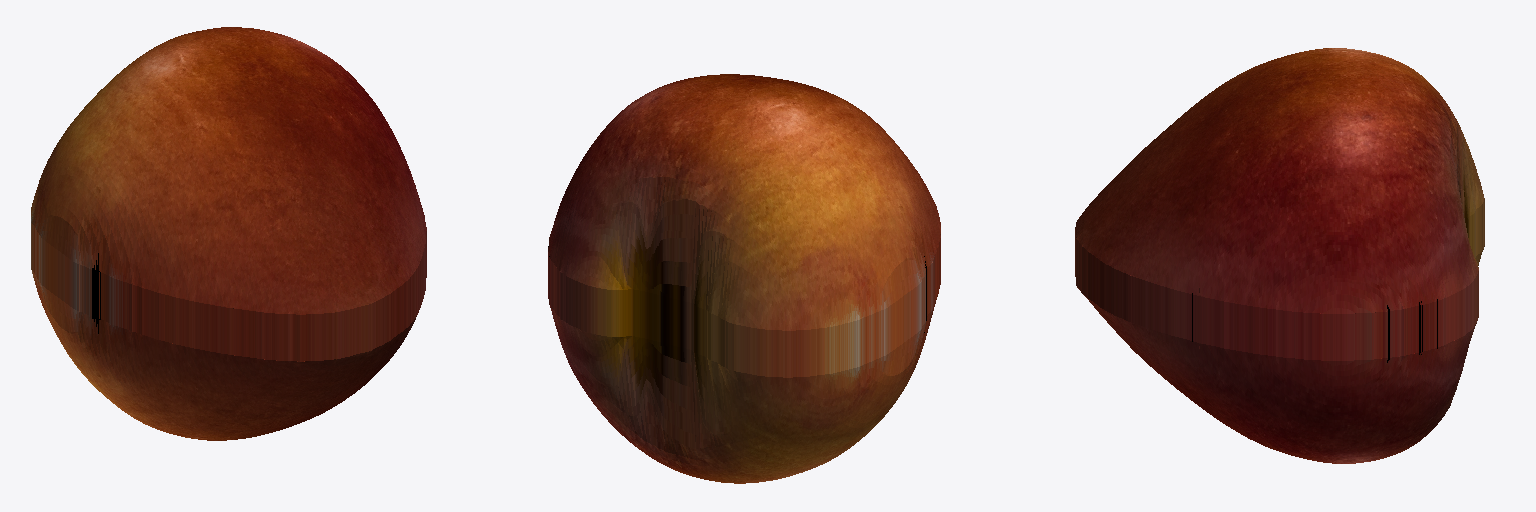
3 renders of one model, left to right at view 1: azimuth 30°, elevation 25°; view 2: azimuth 150°, elevation 25°; view 3: azimuth 270°, elevation 25°, orthographic.
Visible parts, largest first — view 1: Grid; view 2: Grid; view 3: Grid.
Boxes of the visible parts, x1,y1,x2,y2 form: Grid: [31, 27, 426, 440]; Grid: [548, 74, 940, 483]; Grid: [1075, 48, 1484, 463].
Bounding box in the file's own units: 1.49 × 1.6 × 1.59.
Materials: 1 (1 with a texture image).